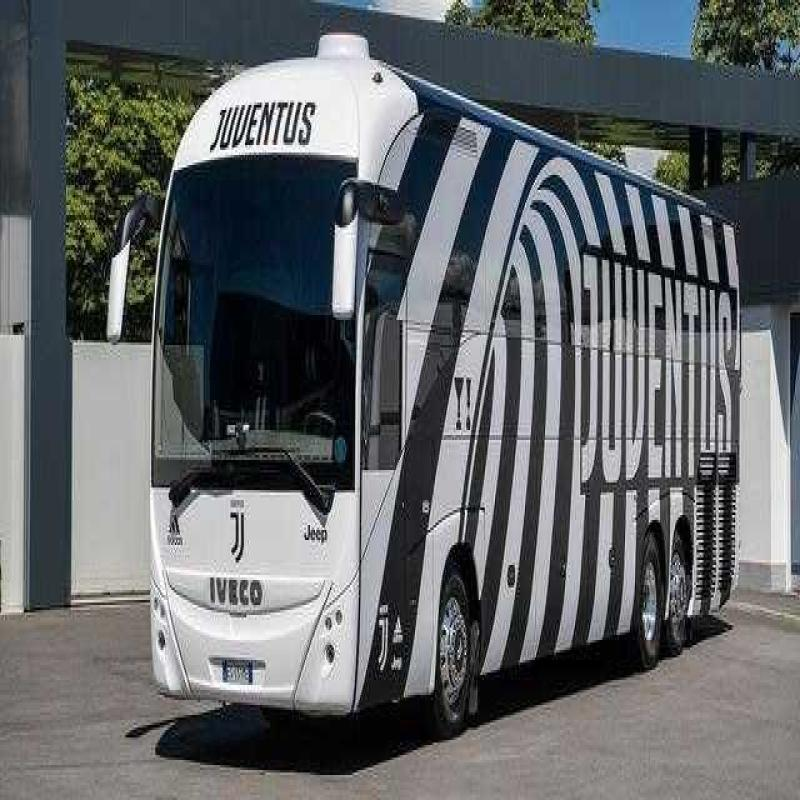bus: (147, 13, 757, 746)
